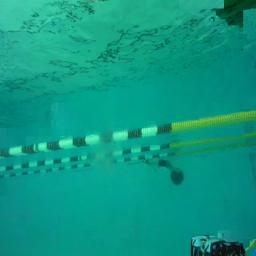front: (189, 234, 247, 256)
